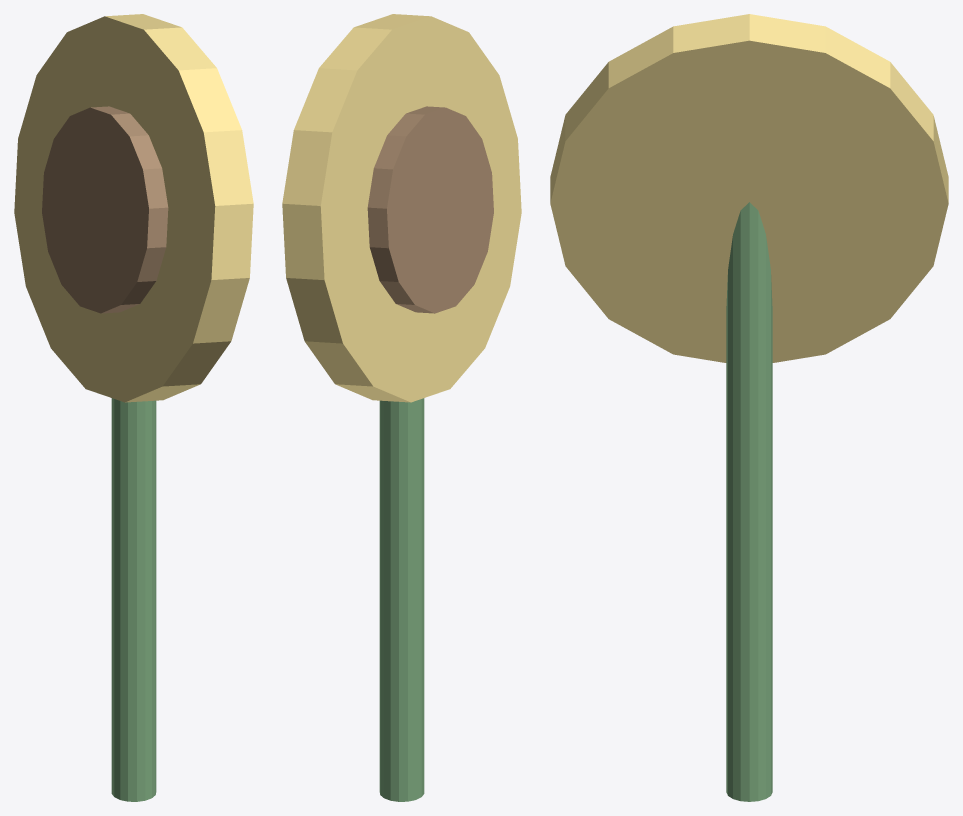
Rendered from Sunflower.glb.
3 renders of one model, left to right at view 1: azimuth 30°, elevation 25°; view 2: azimuth 150°, elevation 25°; view 3: azimuth 270°, elevation 25°, orthographic. The views are drawn at different scales.
Parts seen in each view (by area): view 1: Sunflower_2, Sunflower_1, Sunflower_0; view 2: Sunflower_2, Sunflower_1, Sunflower_0; view 3: Sunflower_2, Sunflower_0.
Boxes of the visible parts, x1,y1,x2,y2 form: Sunflower_2: (14,14,253,402); Sunflower_1: (42,106,168,313); Sunflower_0: (111,398,156,801); Sunflower_2: (282,14,521,402); Sunflower_1: (367,106,493,313); Sunflower_0: (379,398,424,801); Sunflower_2: (550,14,948,362); Sunflower_0: (726,202,772,801).
Bounding box in the file's own units: 0.9164 × 6.51 × 3.
